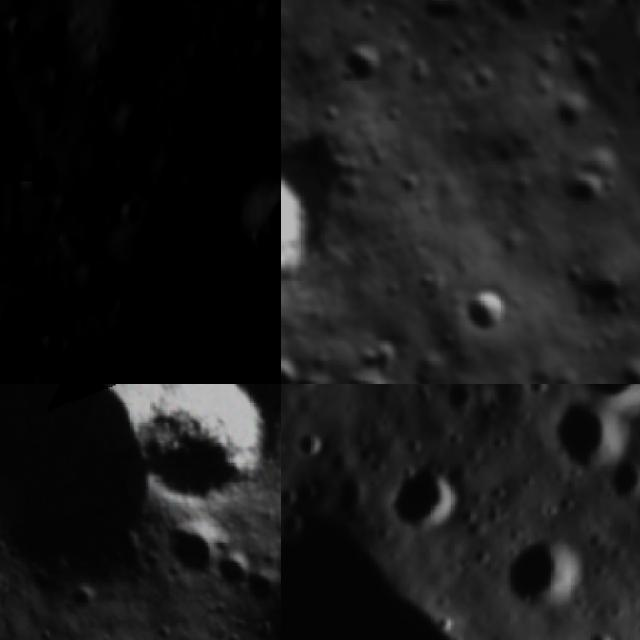crater: (281, 459, 640, 640), (0, 384, 194, 628), (111, 384, 281, 540), (281, 118, 371, 354), (483, 519, 599, 630), (534, 388, 634, 491), (376, 452, 468, 544), (443, 264, 529, 350), (224, 172, 281, 297), (151, 509, 234, 591), (325, 28, 401, 102), (107, 0, 172, 85), (550, 154, 624, 227), (322, 344, 419, 384), (4, 144, 67, 205), (111, 219, 168, 284), (112, 94, 170, 156), (206, 539, 265, 598), (592, 450, 640, 521), (0, 320, 48, 384), (136, 318, 187, 368), (288, 424, 330, 467), (33, 317, 69, 366), (281, 343, 315, 384), (615, 58, 640, 111), (575, 627, 620, 640)
